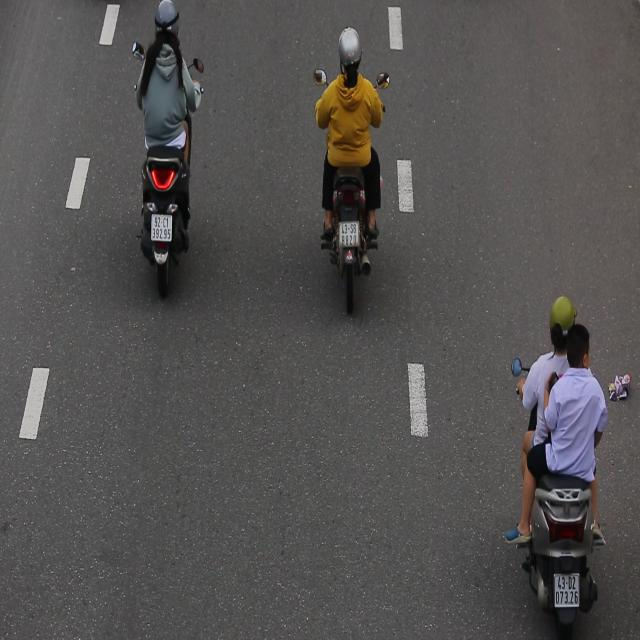motorbike: (506, 291, 605, 634), (308, 21, 393, 313), (128, 0, 202, 289)
